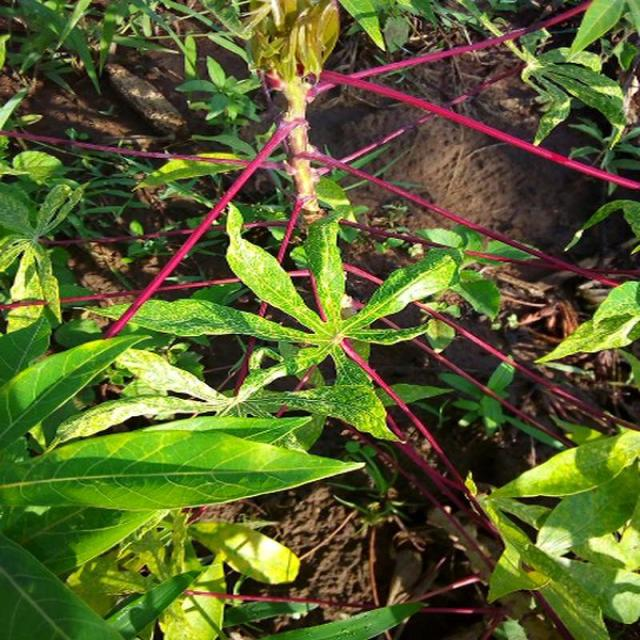cassava leaf: (1, 425, 366, 513)
